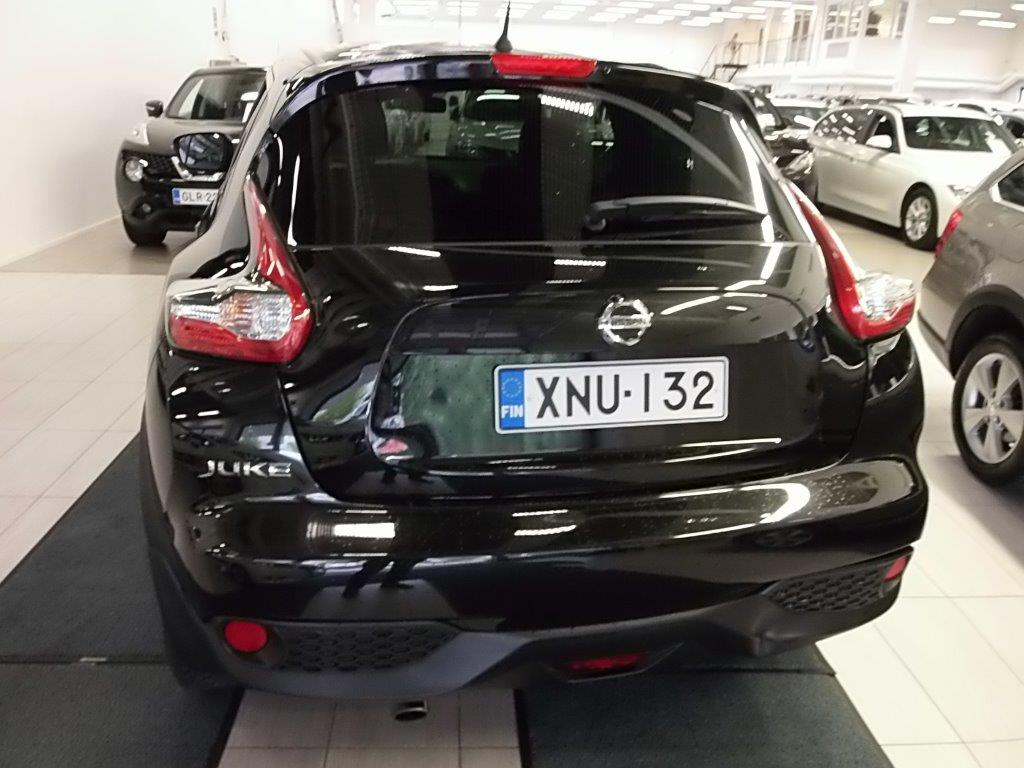license: (493, 355, 727, 435)
